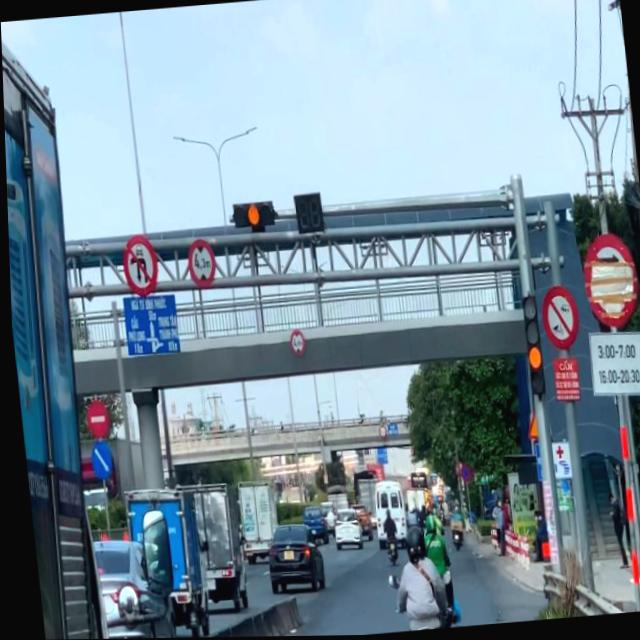Cam di nguoc chieu: (81, 398, 107, 440)
Cam dung xe va do xe: (456, 464, 467, 483)
Han che chieu cao: (185, 239, 215, 290), (286, 329, 303, 356), (374, 425, 382, 439)
Vong chuong ngai vat sang phai: (85, 440, 112, 481)
